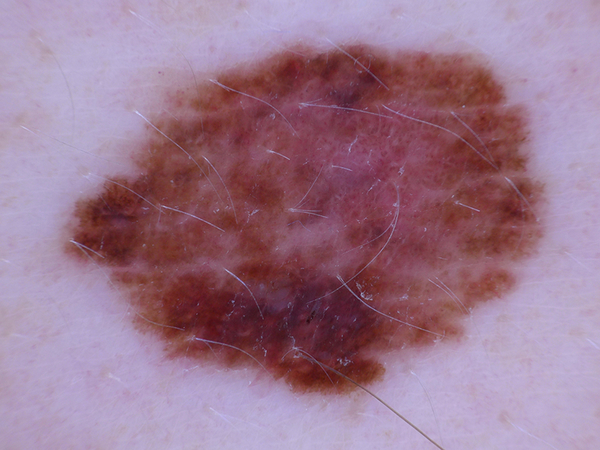Detected Lesion: (62, 34, 551, 401)
